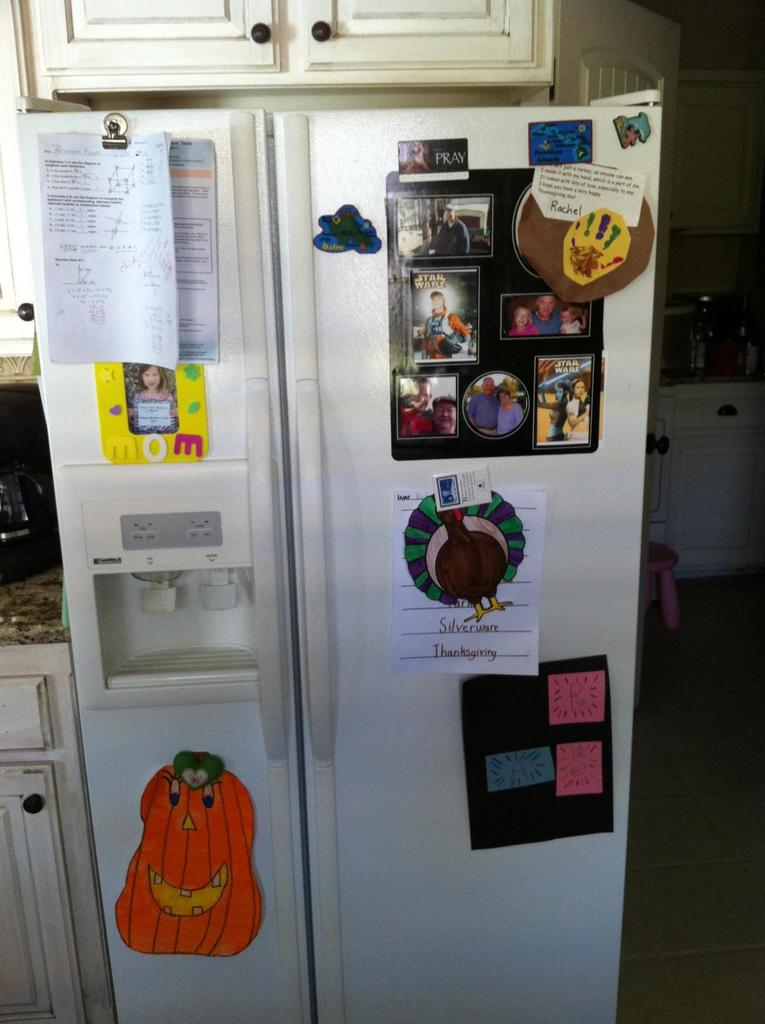cabinet door: (4, 775, 68, 1024), (60, 3, 262, 61), (309, 16, 523, 53)
handle: (295, 375, 337, 759), (240, 385, 288, 710), (307, 10, 335, 54), (14, 782, 47, 819), (252, 10, 276, 55), (14, 297, 37, 334)
refrigerator door: (301, 118, 619, 1024), (88, 125, 291, 1024)
